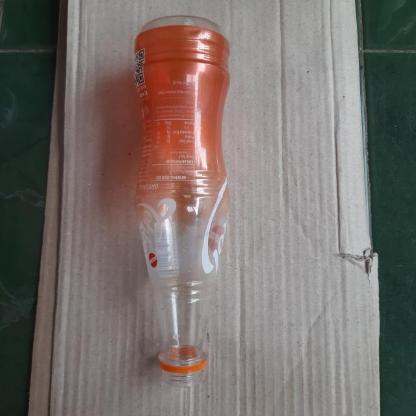Plastic Bottle: (132, 14, 230, 390)
